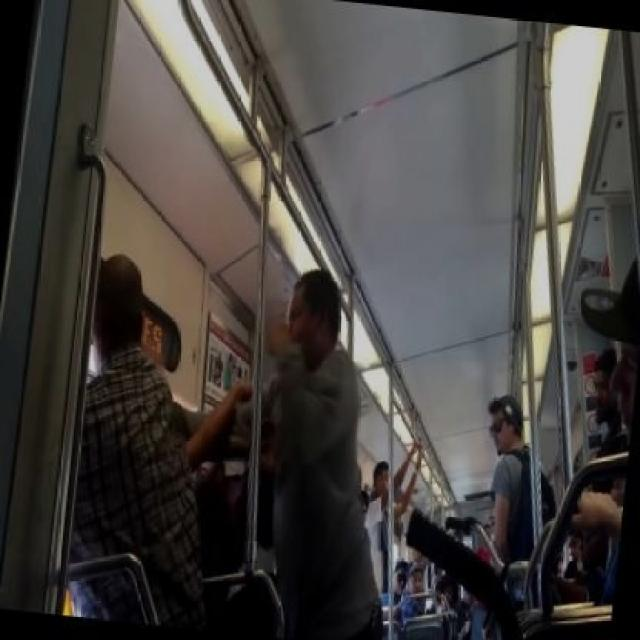fight: (57, 251, 405, 640)
non-fight: (481, 390, 557, 563), (364, 437, 424, 595)
